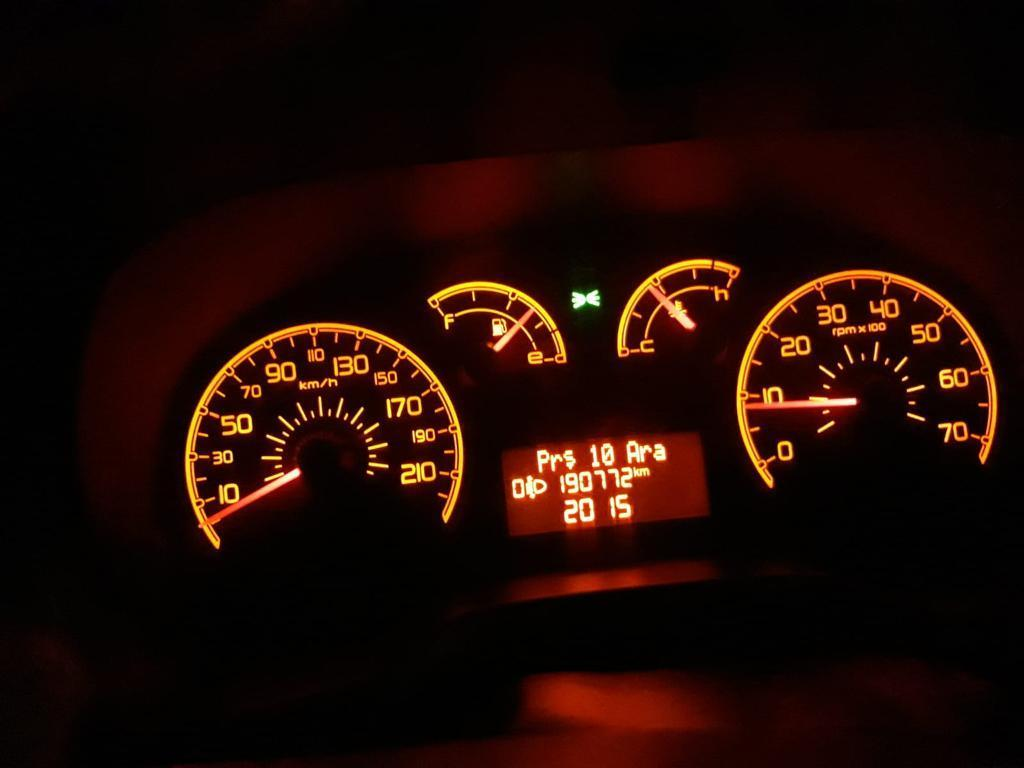0: (578, 496, 595, 522), (599, 441, 615, 465), (578, 470, 592, 492), (510, 477, 524, 498)
1: (587, 442, 599, 468), (607, 494, 615, 520), (558, 473, 564, 495)
2: (563, 498, 578, 523), (620, 465, 632, 488)
5: (616, 492, 631, 519)
7: (606, 467, 620, 488), (593, 469, 606, 490)
9: (564, 471, 578, 493)
X: (535, 448, 548, 473), (625, 440, 639, 463), (652, 442, 666, 461), (563, 449, 576, 468), (639, 444, 652, 462), (549, 453, 562, 471), (639, 466, 650, 475), (632, 465, 639, 477)
odometer: (495, 426, 715, 538)
